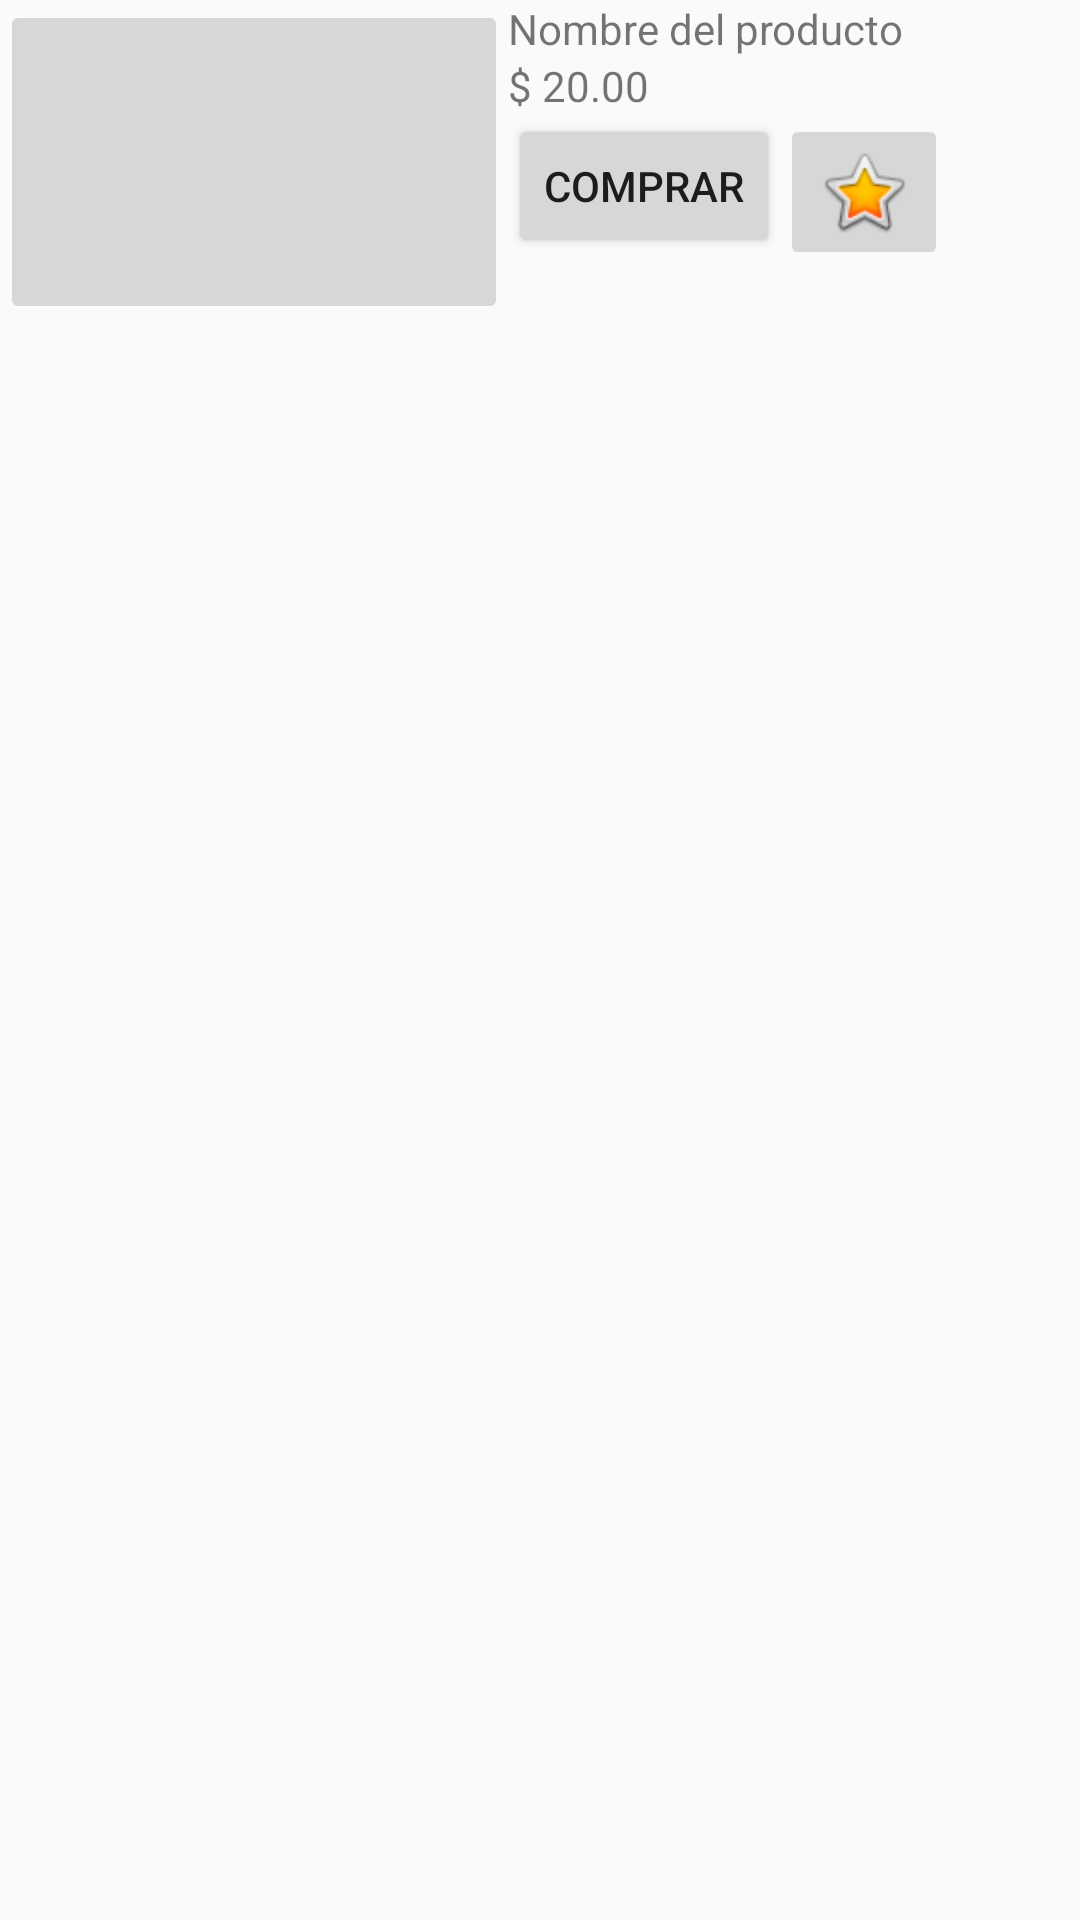

Screen size 1080w x 1920h. Icon name, then its box in pixels as box(x1, y1, x2, y2):
star on: box(792, 132, 936, 252)
